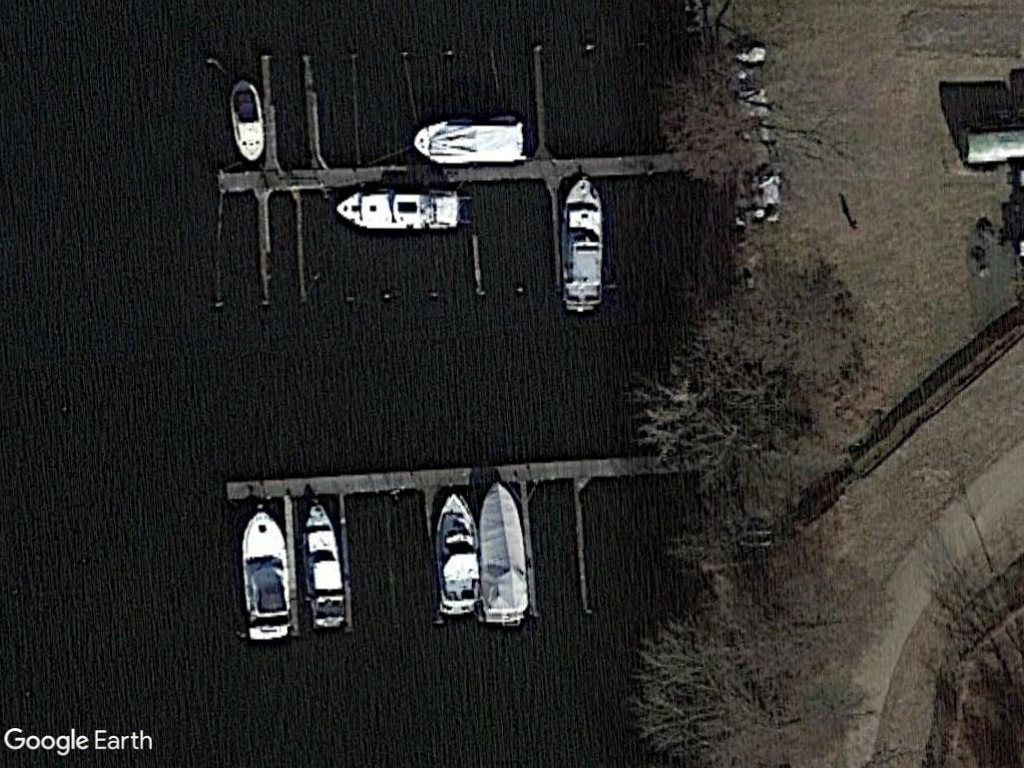boat: (474, 475, 534, 628), (233, 503, 294, 647), (555, 169, 610, 319), (296, 492, 352, 635), (328, 186, 474, 238), (432, 488, 485, 623), (408, 112, 528, 168), (224, 75, 272, 168)
